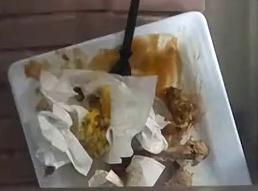corn: (77, 109, 110, 158)
